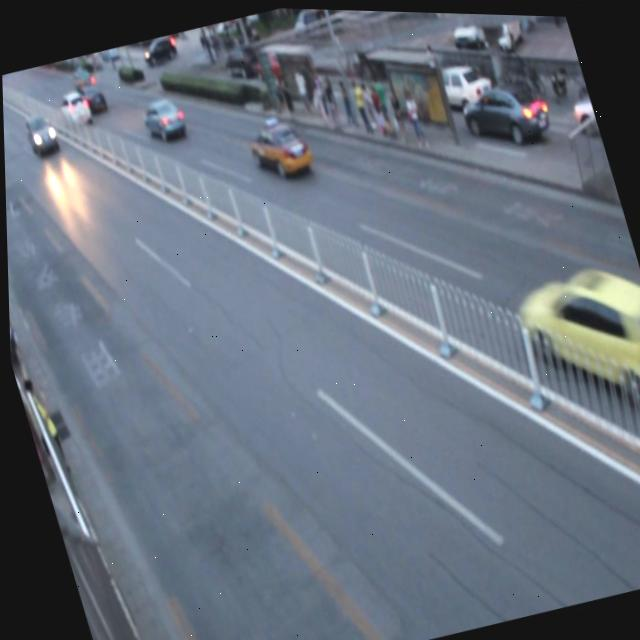car: (498, 244, 640, 432), (243, 111, 313, 180), (138, 92, 189, 146), (21, 109, 62, 158), (56, 87, 93, 131), (73, 77, 108, 119)
